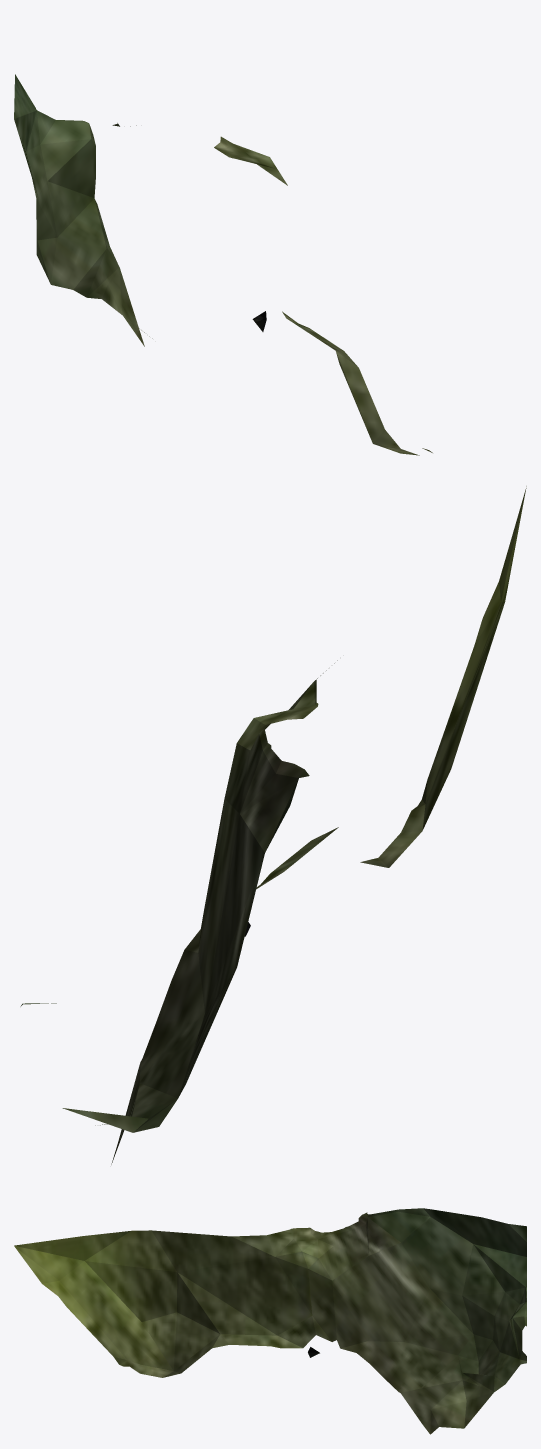
The picture shows the model from 3 angles, top to bottom: view 1: azimuth 30°, elevation 25°; view 2: azimuth 150°, elevation 25°; view 3: azimuth 270°, elevation 25°; orthographic projection. The views are drawn at different scales.
Size of the model in its own units: 0.8596 by 2.01 by 4.95.
Materials: 1 (1 with a texture image).
